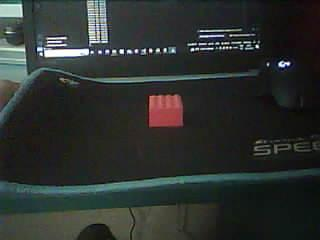lego: (148, 94, 184, 128)
